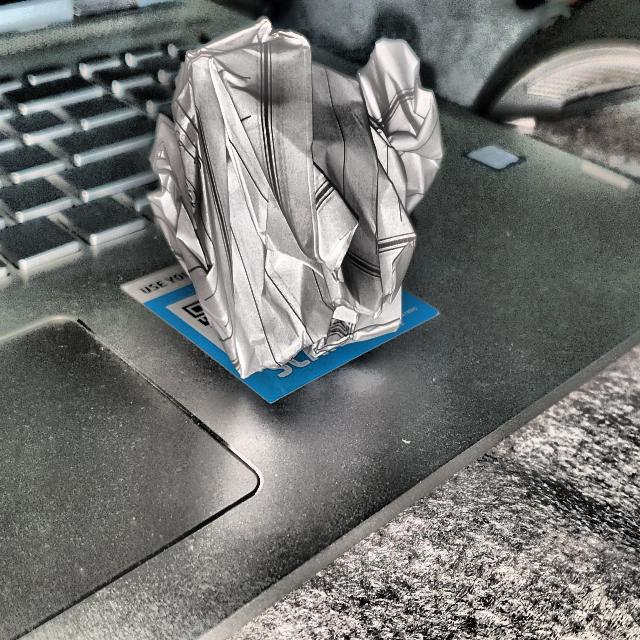paper: (140, 8, 458, 404)
